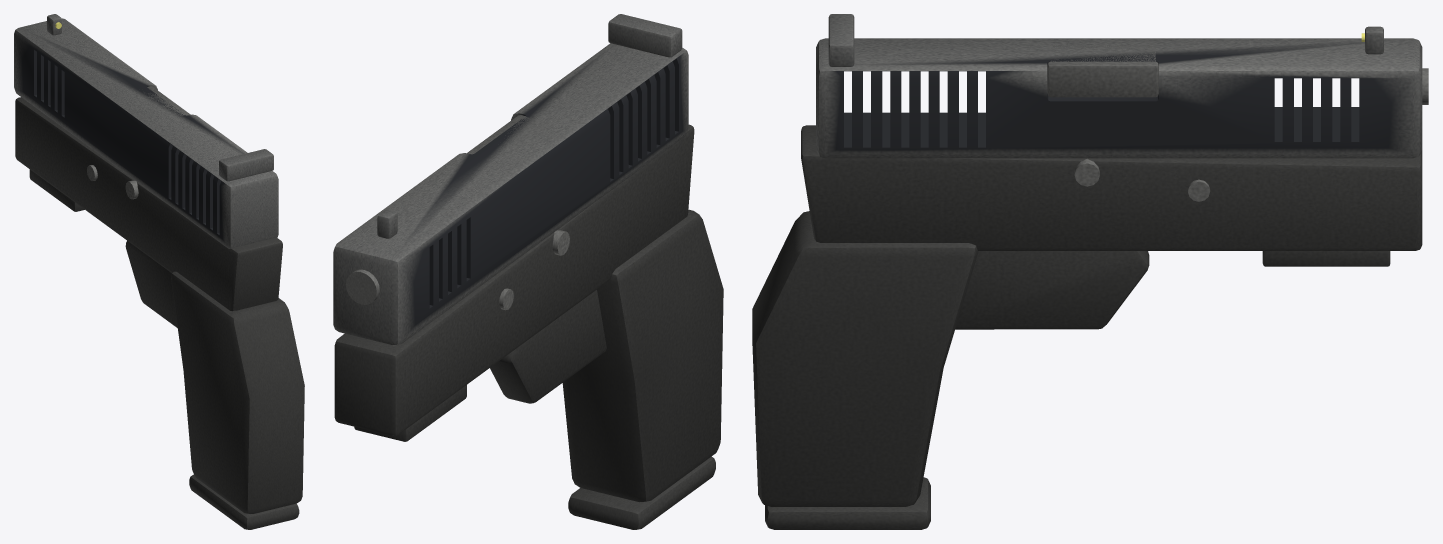
The model's file is SM_WeaponPistol.fbx.
The picture shows the model from 3 angles, left to right: view 1: azimuth 30°, elevation 25°; view 2: azimuth 150°, elevation 25°; view 3: azimuth 270°, elevation 25°; orthographic projection. The views are drawn at different scales.
Parts seen in each view (by area): view 1: SM_WeaponPistol, SM_WeaponPistol_Slide; view 2: SM_WeaponPistol, SM_WeaponPistol_Slide; view 3: SM_WeaponPistol, SM_WeaponPistol_Slide.
Part boxes in pixels (x1,y1,x2,y2): SM_WeaponPistol: (15, 97, 304, 529); SM_WeaponPistol_Slide: (14, 14, 278, 248); SM_WeaponPistol: (334, 124, 723, 529); SM_WeaponPistol_Slide: (333, 14, 688, 345); SM_WeaponPistol: (752, 68, 1428, 529); SM_WeaponPistol_Slide: (816, 14, 1422, 158).
Size of the model in its own units: 0.03 by 0.168 by 0.212.
1 material, 1 textured.
